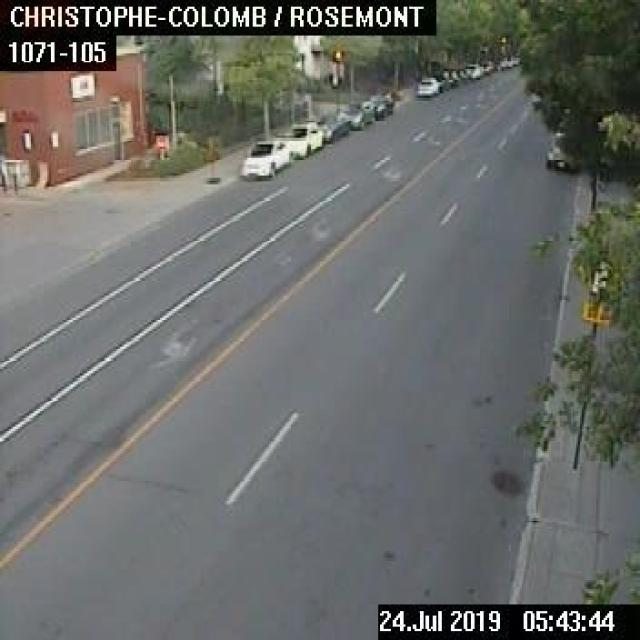vehicle: (240, 138, 291, 176), (285, 120, 322, 157), (544, 131, 578, 169), (319, 112, 350, 140), (347, 100, 372, 129), (371, 93, 392, 117), (416, 76, 436, 94), (434, 70, 448, 91), (461, 62, 479, 78), (446, 68, 456, 86)
